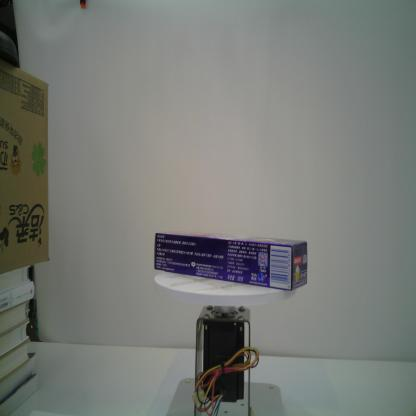Personal Hygiene: (153, 230, 309, 292)
